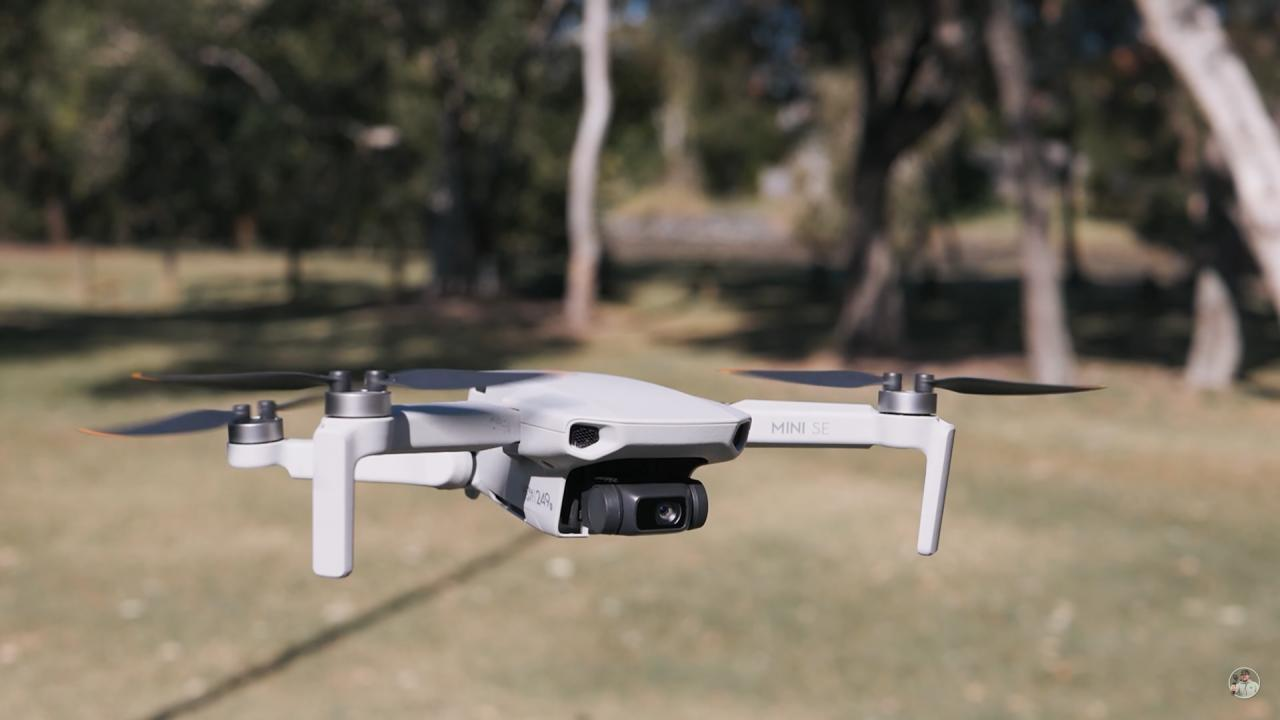Drone: (79, 340, 1110, 594)
